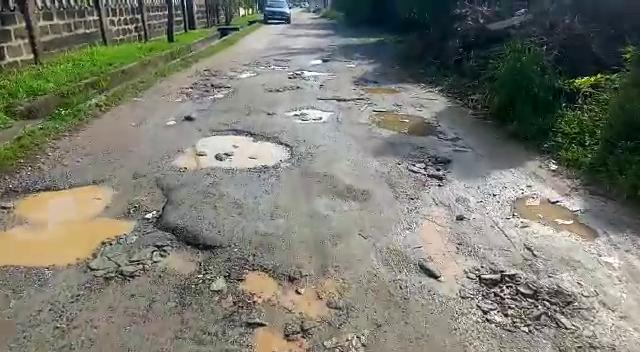pothole: (1, 177, 227, 276), (204, 260, 356, 350), (461, 269, 584, 338), (168, 127, 303, 172), (501, 191, 607, 241), (367, 107, 443, 138), (393, 152, 448, 185), (173, 81, 237, 102), (286, 107, 331, 123), (360, 84, 402, 96), (314, 95, 366, 102)
